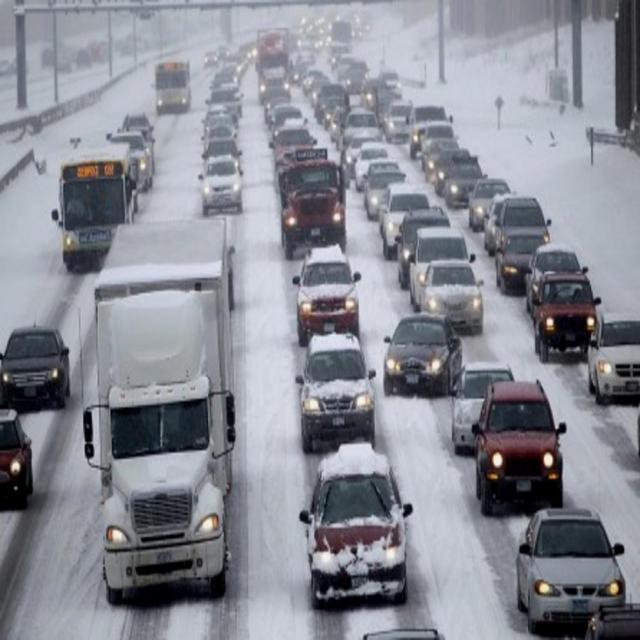Bus: (52, 134, 135, 276), (148, 57, 193, 118)
Car: (299, 441, 418, 617), (516, 506, 630, 635), (471, 378, 568, 511), (292, 333, 382, 444), (379, 312, 465, 405), (290, 248, 362, 348), (0, 320, 73, 413), (585, 306, 640, 402), (419, 260, 489, 334), (196, 157, 246, 217), (496, 230, 542, 294), (466, 174, 516, 230)
Truck: (79, 211, 243, 609), (274, 138, 350, 263), (252, 23, 295, 108)
